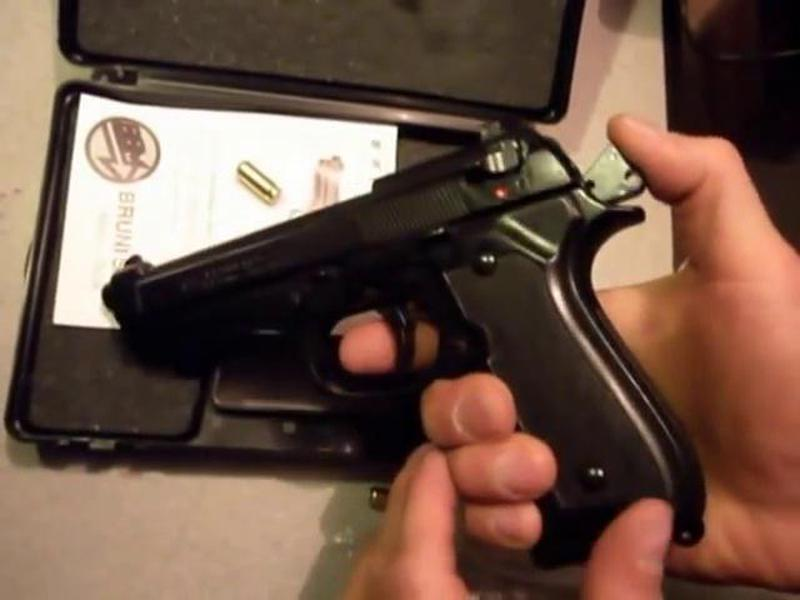Pistola: (65, 158, 717, 555)
